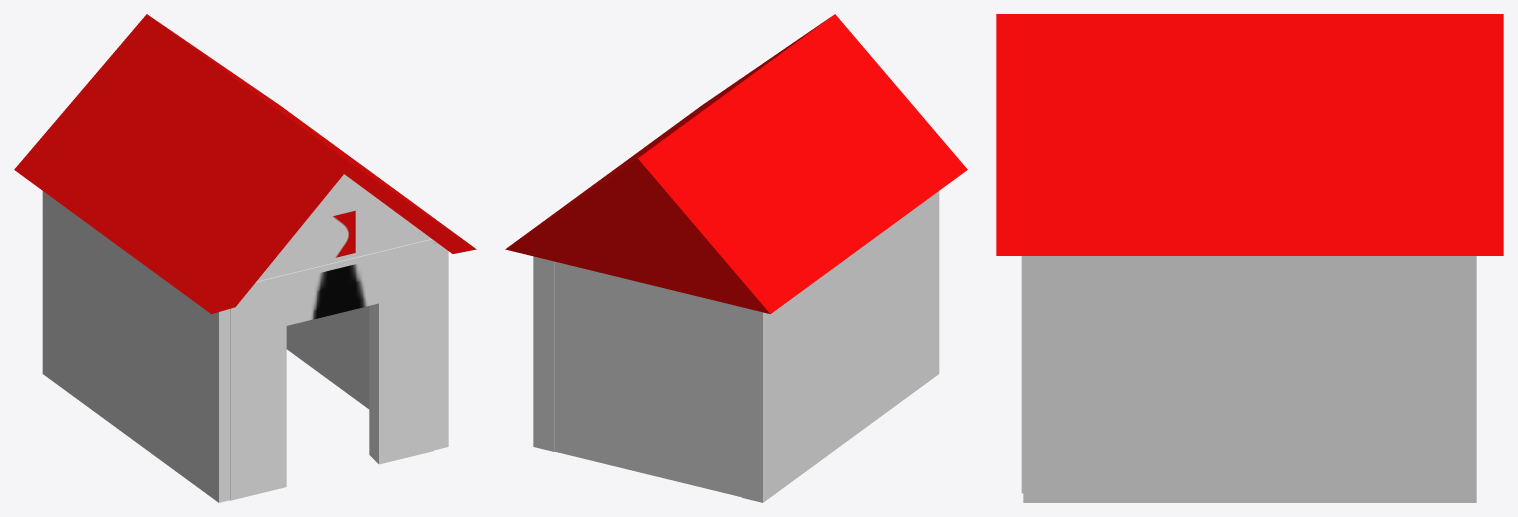
File: diefhouse.glb
3 views of the same model, side by side, from view 1: azimuth 30°, elevation 25°; view 2: azimuth 150°, elevation 25°; view 3: azimuth 270°, elevation 25° (orthographic). The views are drawn at different scales.
Parts seen in each view (by area): view 1: Cube.004, Cube.002, Cube.003, Cube.001, name, 422-4223386_flag-of-canada-maple-leaf-canada-day-canadian; view 2: Cube.004, Cube.002, Cube, Cube.001; view 3: Cube.004, Cube.001, Cube.003.
Boxes of the visible parts, left/top/right/bottom form: Cube.004: left=14, top=14, right=476, bottom=313; Cube.002: left=42, top=191, right=230, bottom=502; Cube.003: left=230, top=239, right=433, bottom=500; Cube.001: left=286, top=243, right=448, bottom=450; name: left=310, top=264, right=367, bottom=319; 422-4223386_flag-of-canada-maple-leaf-canada-day-canadian: left=332, top=210, right=355, bottom=257; Cube.004: left=505, top=14, right=967, bottom=313; Cube.002: left=741, top=191, right=939, bottom=502; Cube: left=555, top=261, right=741, bottom=496; Cube.001: left=533, top=256, right=554, bottom=451; Cube.004: left=996, top=14, right=1503, bottom=255; Cube.001: left=1023, top=256, right=1476, bottom=502; Cube.003: left=1021, top=256, right=1023, bottom=493.
Size of the model in its own units: 2.62 by 3.06 by 3.37.
6 materials, 2 textured.
